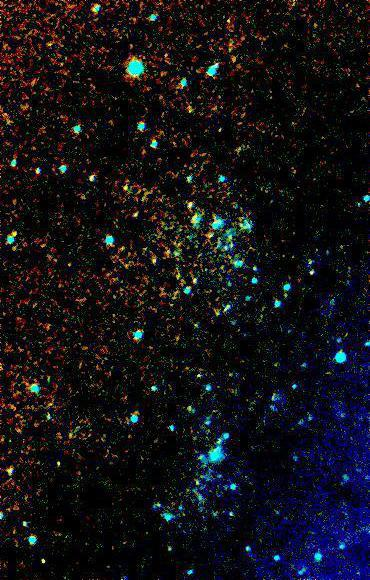star: (32, 546, 62, 576)
